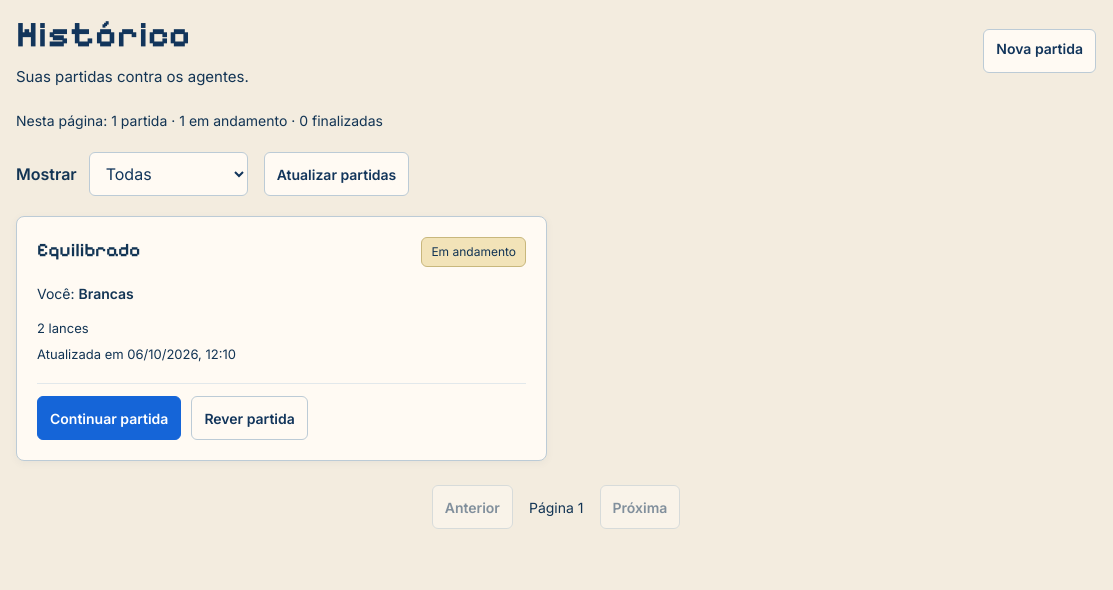
abertura falha mantém arquivo e permite tentar novamente
This screenshot has width=1113, height=590.
Check: the heading "Equilibrado" is shown, box 37,239 -> 140,261
Click the button "Continuar partida". click: click(109, 418)
box: 37,396 -> 181,440
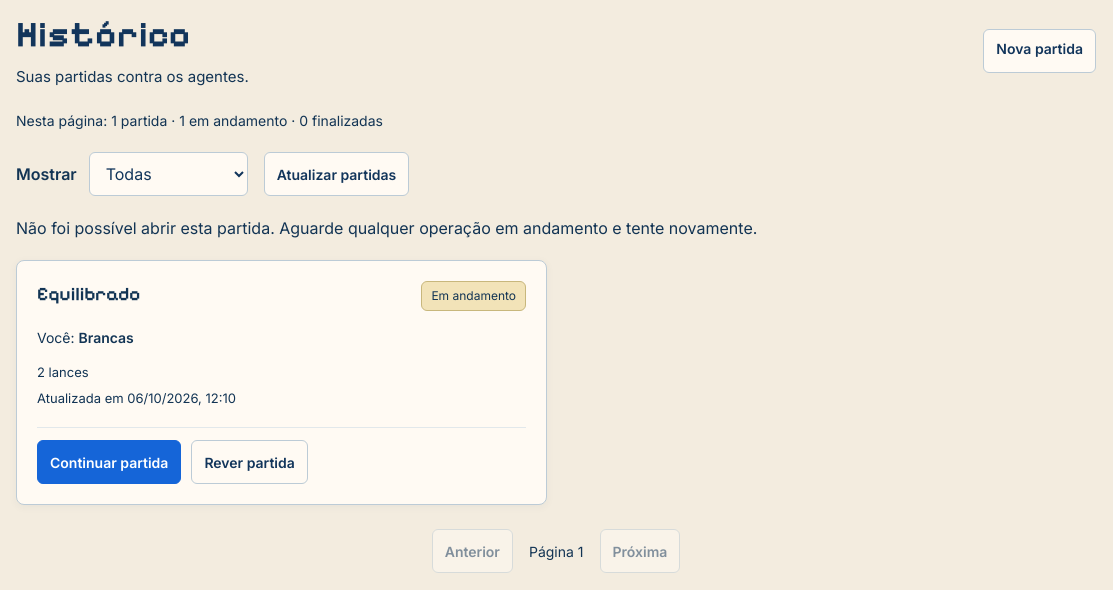
Check: the heading "Equilibrado" is shown, box 37,283 -> 140,305
Check: the message is shown, box 16,218 -> 757,238
Click the button "Continuar partida". click: click(109, 462)
box: 37,440 -> 181,484
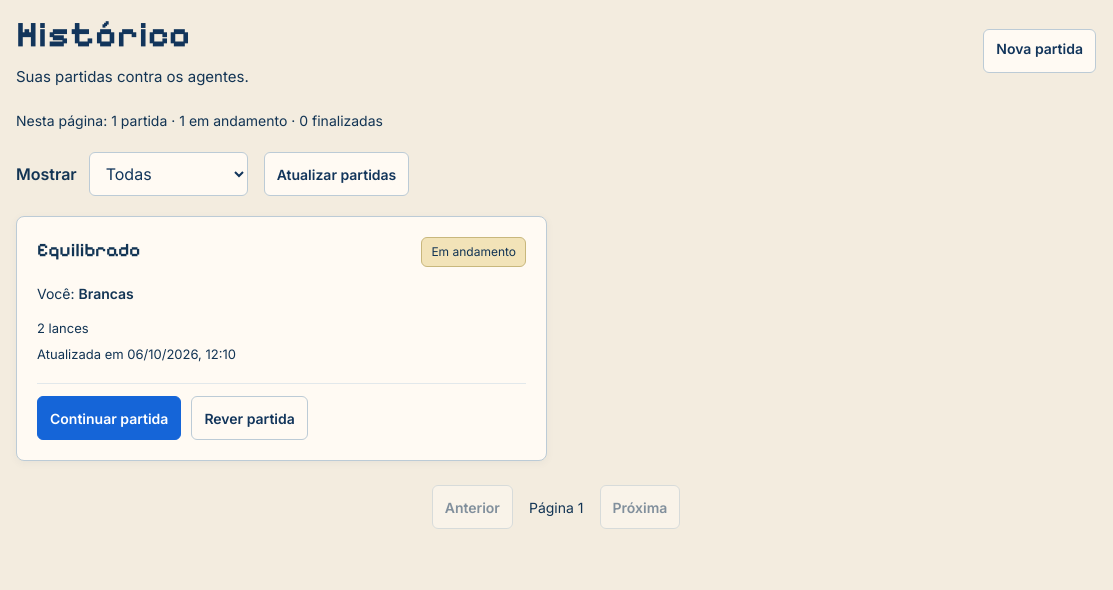
Check: the message is gone
